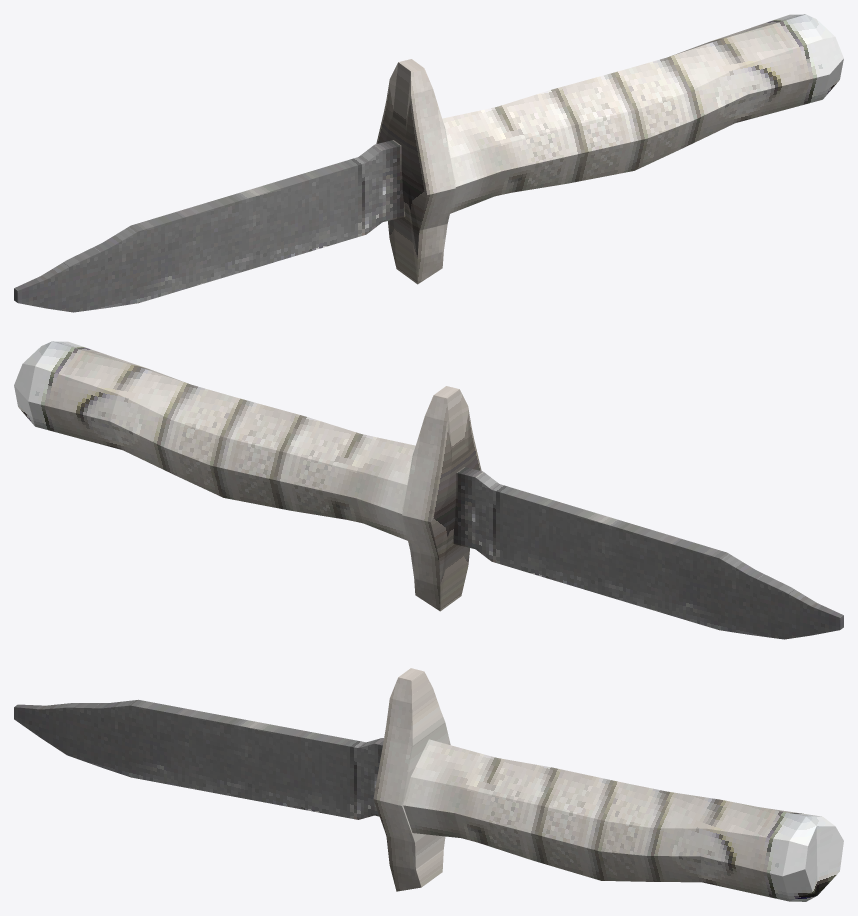
The model's file is knife.glb.
The picture shows the model from 3 angles, top to bottom: view 1: azimuth 30°, elevation 25°; view 2: azimuth 150°, elevation 25°; view 3: azimuth 330°, elevation 25°; orthographic projection.
Parts seen in each view (by area): view 1: Cylinder; view 2: Cylinder; view 3: Cylinder.
Boxes of the visible parts, bbox=[...] form: Cylinder: bbox=[14, 14, 843, 312]; Cylinder: bbox=[14, 341, 843, 639]; Cylinder: bbox=[14, 668, 843, 901].
Bounding box in the file's own units: 4.77 × 1.18 × 0.5482.
1 material, 1 textured.
